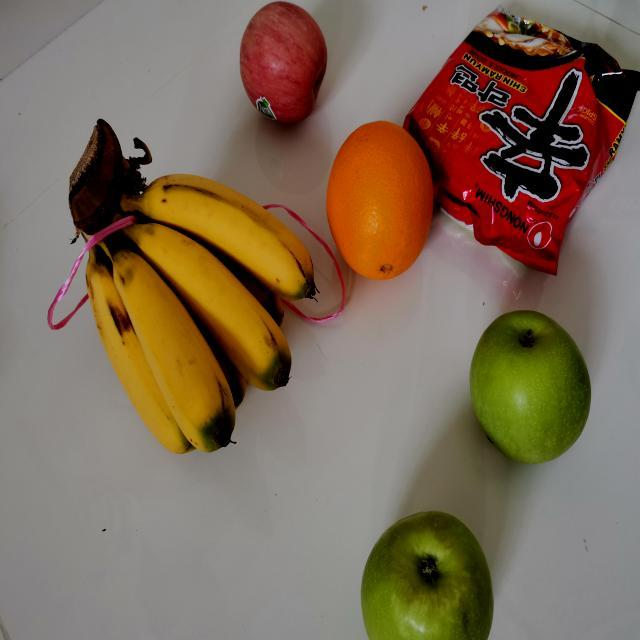Apple: (468, 308, 596, 465), (358, 508, 493, 640), (235, 0, 328, 126)
Banana: (62, 116, 319, 459)
Orange: (324, 119, 434, 280)
